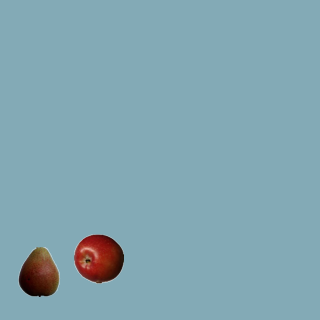Apple Braeburn: (73, 233, 123, 283)
Pear Forelle: (13, 246, 63, 296)
